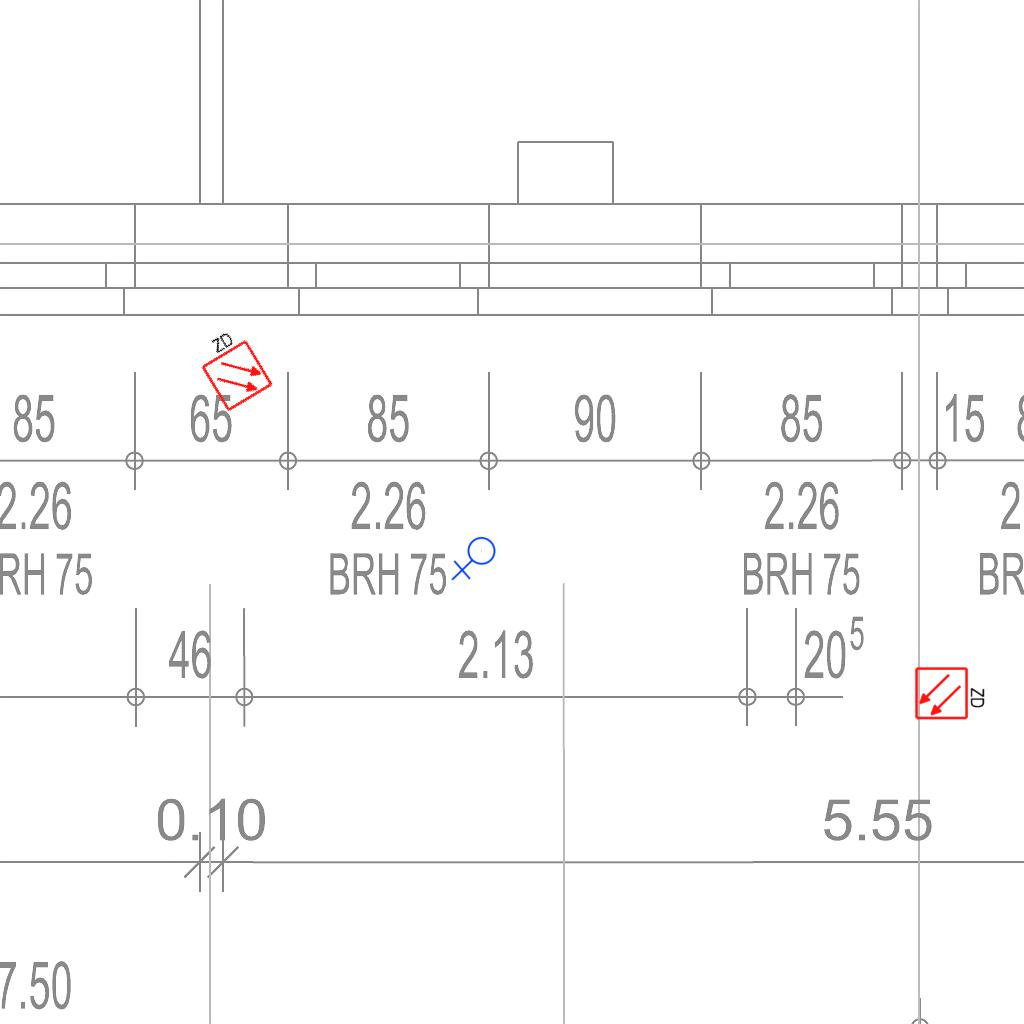Elektroanschluss_allgemein_230V_Geraeteanschlussdose_230V: (451, 536, 500, 583)
ZD_Melder_in_Zwischendecke_mit_Revisionsoeffnung_mind_40_x_40_cm: (188, 321, 275, 415), (914, 664, 988, 721)
